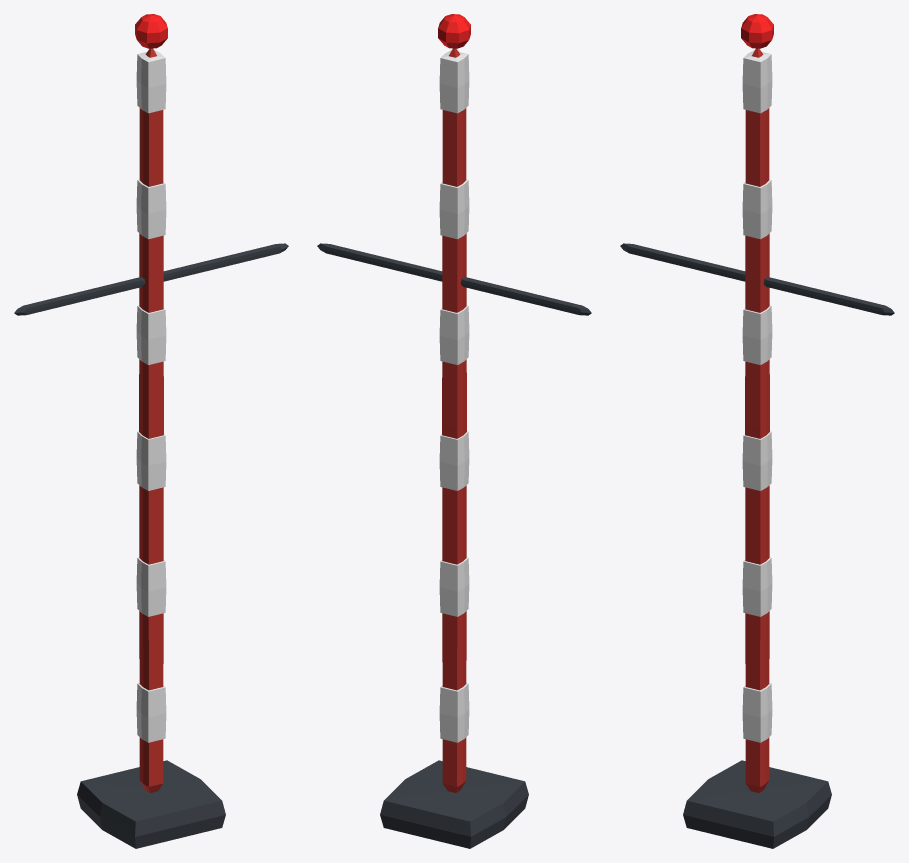
Rendered from r-antenna.glb.
3 views of the same model, side by side, from view 1: azimuth 30°, elevation 25°; view 2: azimuth 150°, elevation 25°; view 3: azimuth 330°, elevation 25° (orthographic).
Parts seen in each view (by area): view 1: p; view 2: p; view 3: p.
Boxes of the visible parts, box(x1,y1,x2,y2) form: p: box(14, 14, 288, 848); p: box(317, 14, 591, 848); p: box(620, 14, 894, 848).
Size of the model in its own units: 1.6 by 4.47 by 0.5847.
